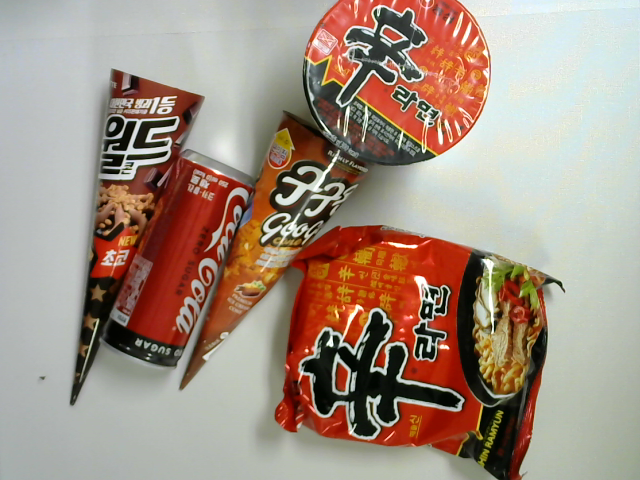Coca_Cola_Zero_Can_250ml: (101, 145, 257, 381)
GooGoo_Cone_CVS: (178, 105, 374, 398)
Sinramen: (280, 224, 568, 480)
Sinramen_small: (300, 1, 498, 168)
World_Cone_Choco: (66, 66, 204, 410)
